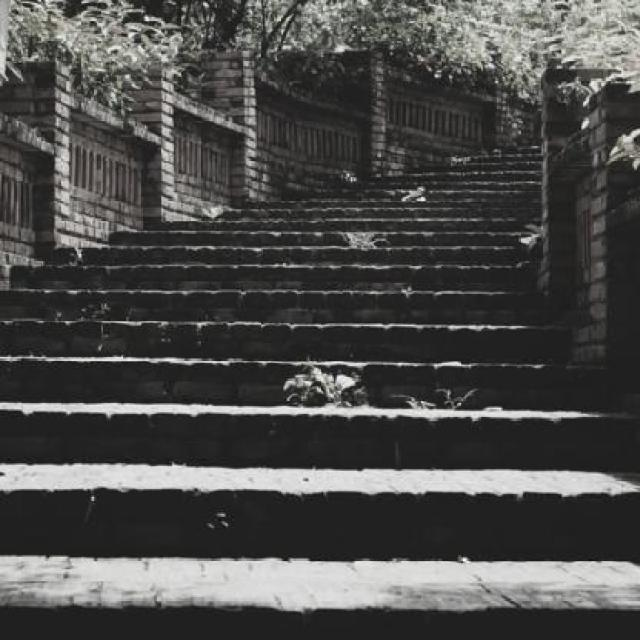stair: (0, 141, 638, 638)
